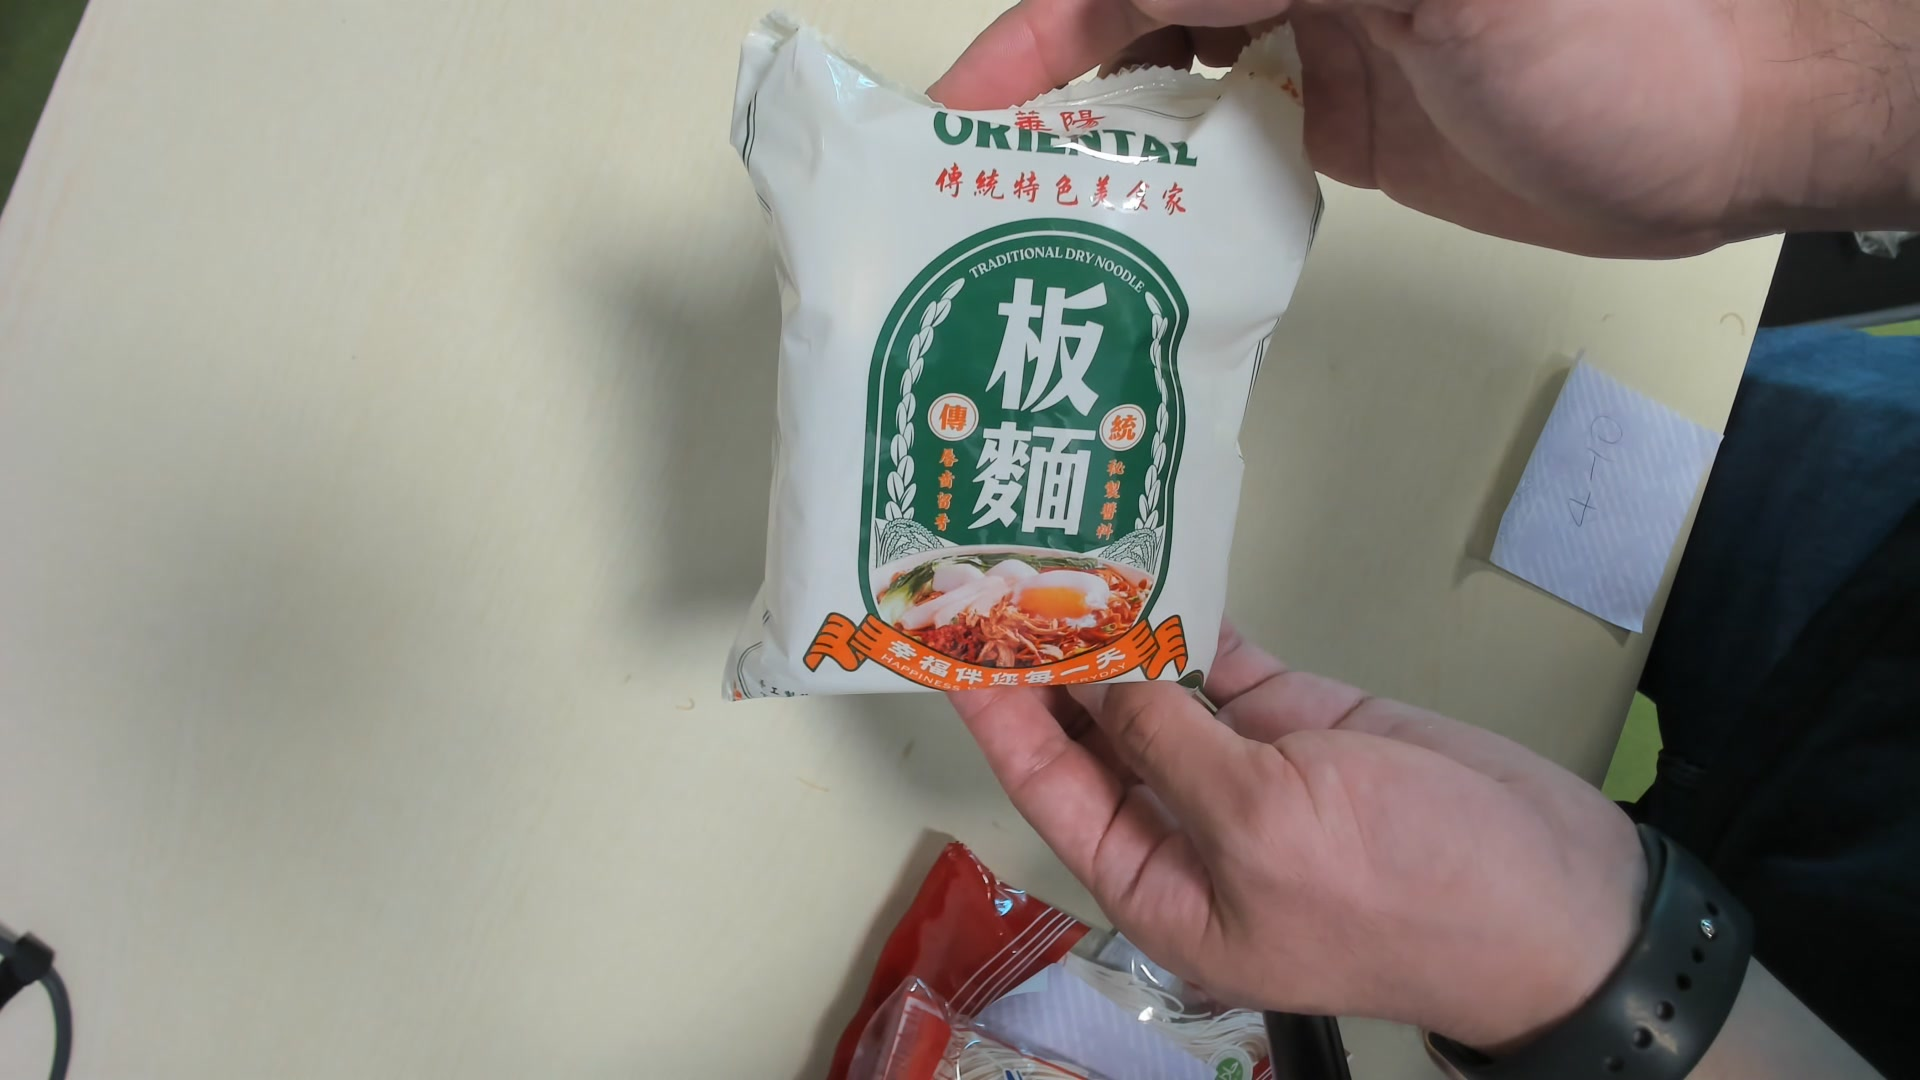BeeHoonVermicelli_100-199g_NonHalal_NonHealthy: (729, 34, 1300, 705)
